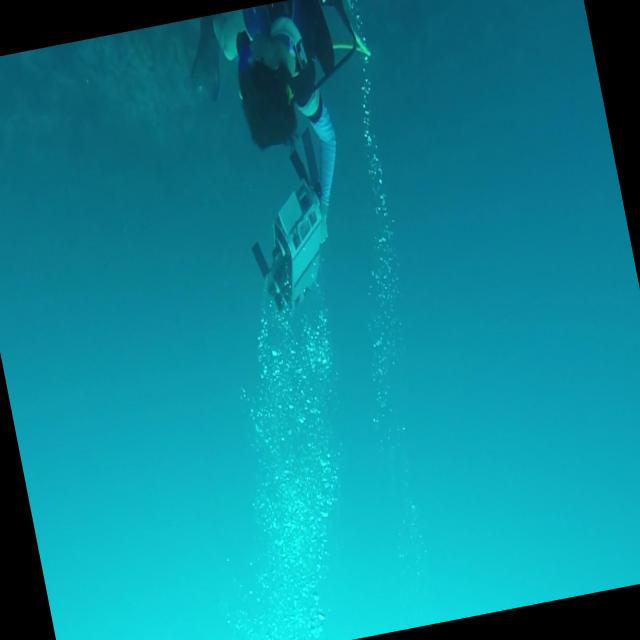human: (176, 0, 415, 323)
